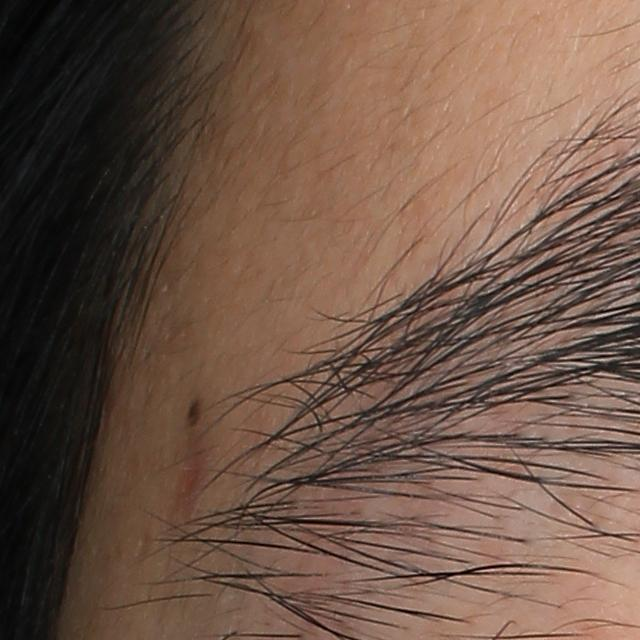nevus: (184, 395, 202, 431)
